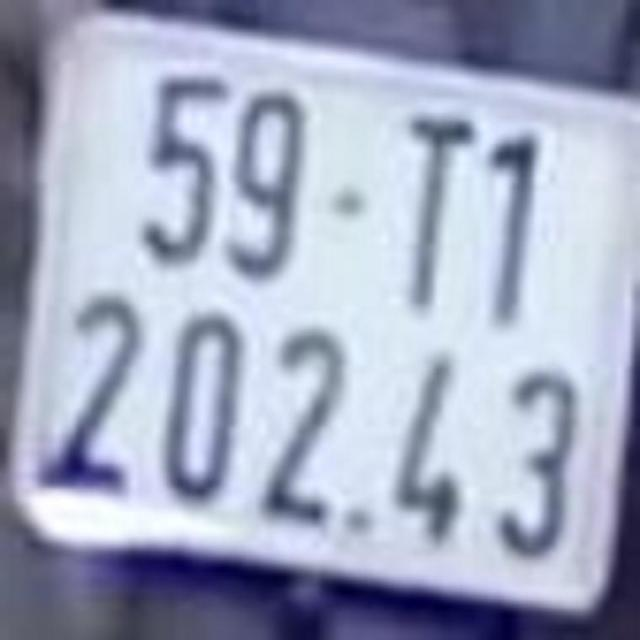0: (158, 303, 247, 499)
1: (484, 122, 543, 325)
2: (39, 291, 140, 496), (260, 314, 344, 522)
3: (497, 355, 578, 559)
4: (391, 340, 462, 542)
5: (140, 63, 224, 273)
9: (227, 82, 304, 281)
T: (399, 108, 477, 324)
